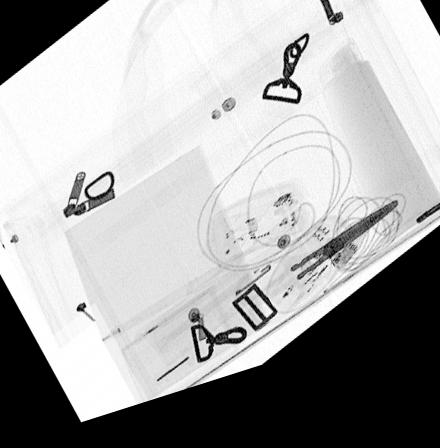Scissors: (231, 222, 401, 346)
